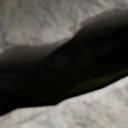brick: (2, 80, 127, 127)
crack: (0, 2, 127, 127)
